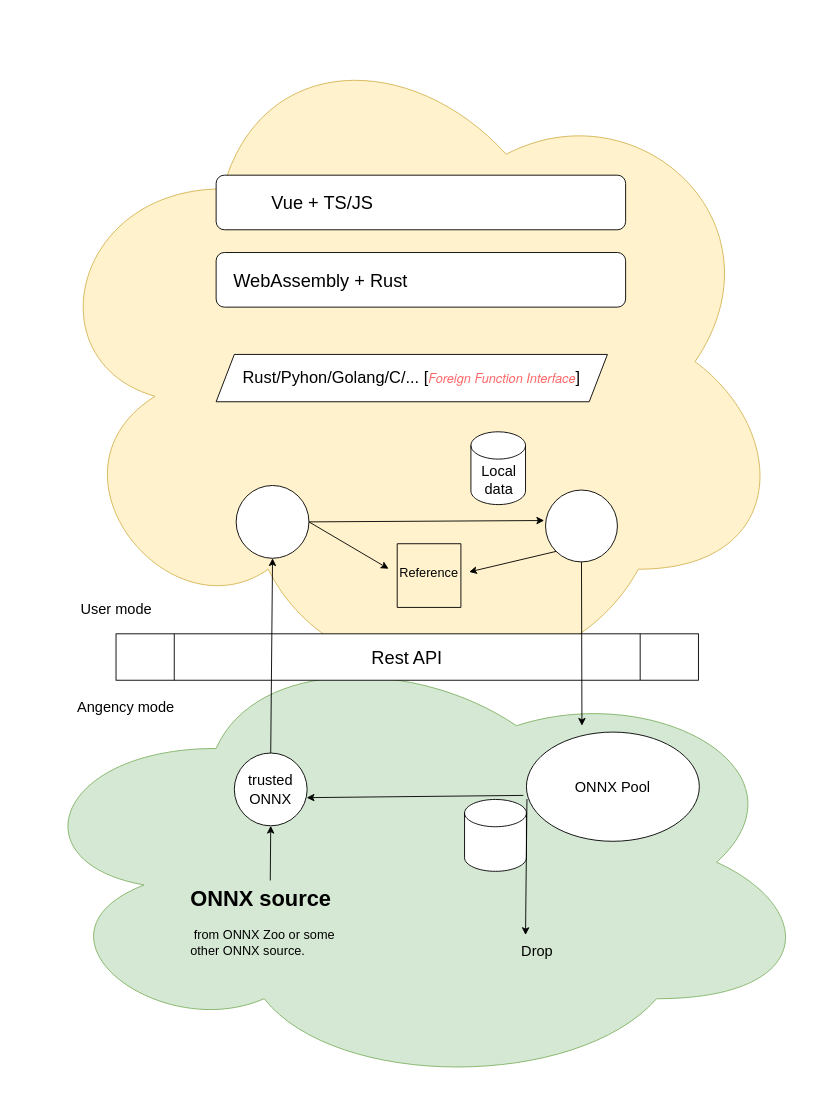
Some shapes in this 833 by 1106 pixel diagram are drawn without their labels. Each missing label, with the centre of its shape:
Init. ONNX: [272,521]
update ONNX: [581,525]
Validation data: [495,835]
